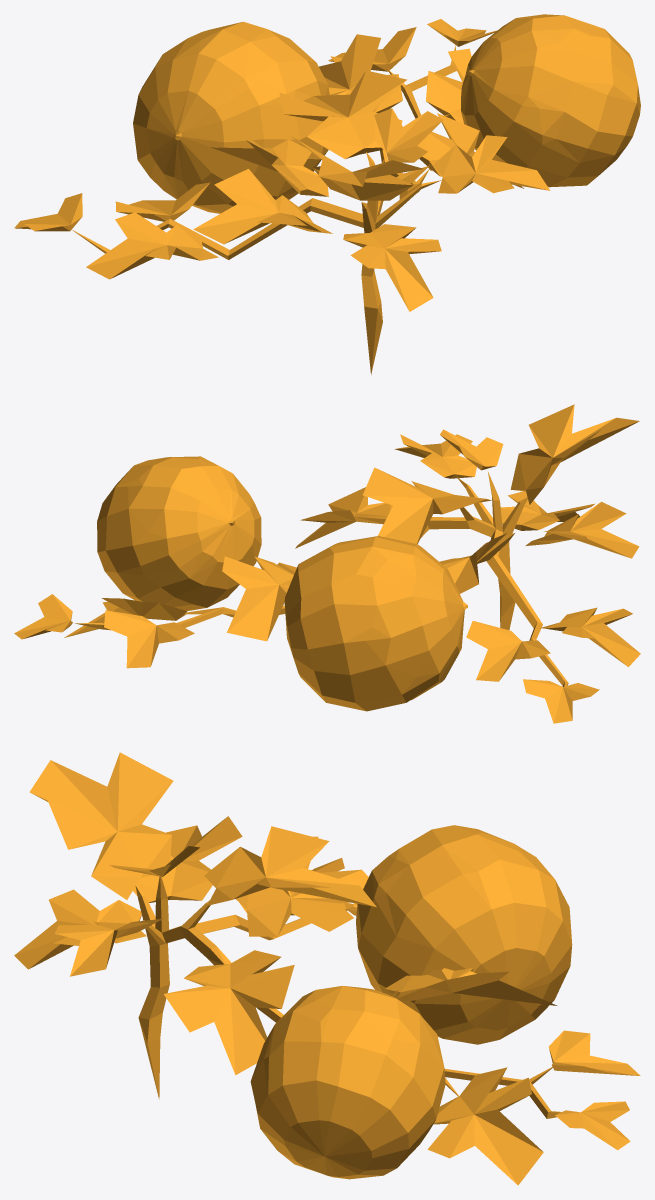
Rendered from SM_Watermelon_Plant_Ripe.fbx.
The picture shows the model from 3 angles, top to bottom: view 1: azimuth 30°, elevation 25°; view 2: azimuth 150°, elevation 25°; view 3: azimuth 270°, elevation 25°; orthographic projection. The views are drawn at different scales.
Visible parts, largest first — view 1: watermelon-plant-ripe; view 2: watermelon-plant-ripe; view 3: watermelon-plant-ripe.
Part boxes in pixels (x1=…): watermelon-plant-ripe: x1=14, y1=14, x2=640, y2=374; watermelon-plant-ripe: x1=14, y1=404, x2=640, y2=723; watermelon-plant-ripe: x1=14, y1=752, x2=640, y2=1185.
Size of the model in its own units: 1.38 by 0.6359 by 1.21.
